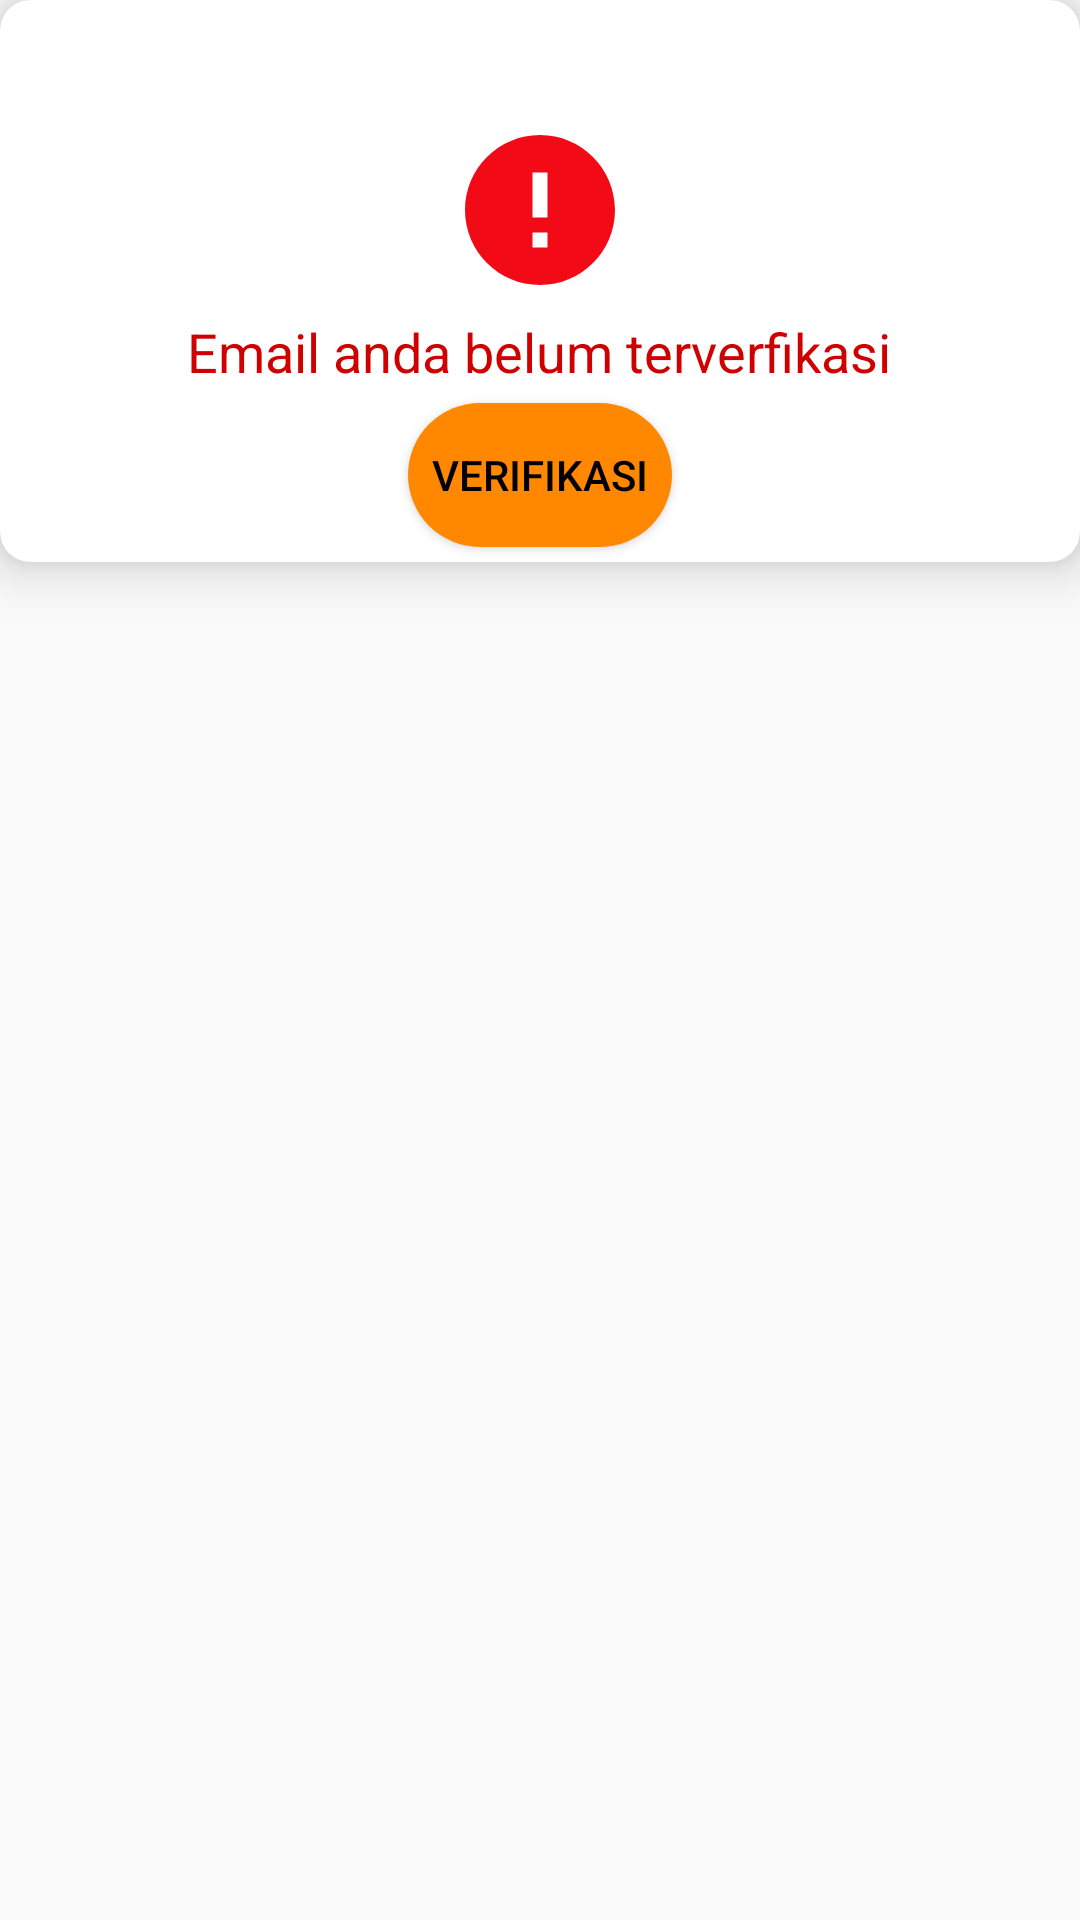

Named icons in this screenshot (1080px x 1920px) and their bounding boxes, {"left": x1, "top": y1, "right": x2, "bottom": y2}:
error: {"left": 465, "top": 135, "right": 615, "bottom": 285}
